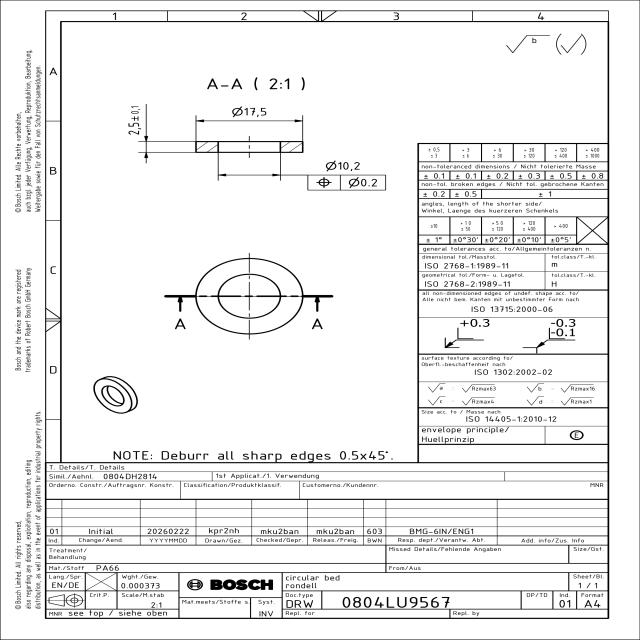dimension: (323, 158, 362, 173), (230, 105, 269, 119), (126, 105, 142, 136)
